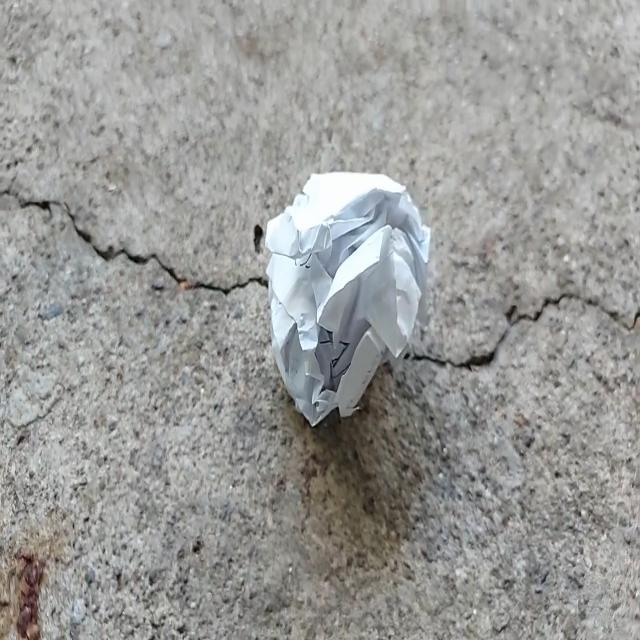Paper: (222, 128, 471, 453)
